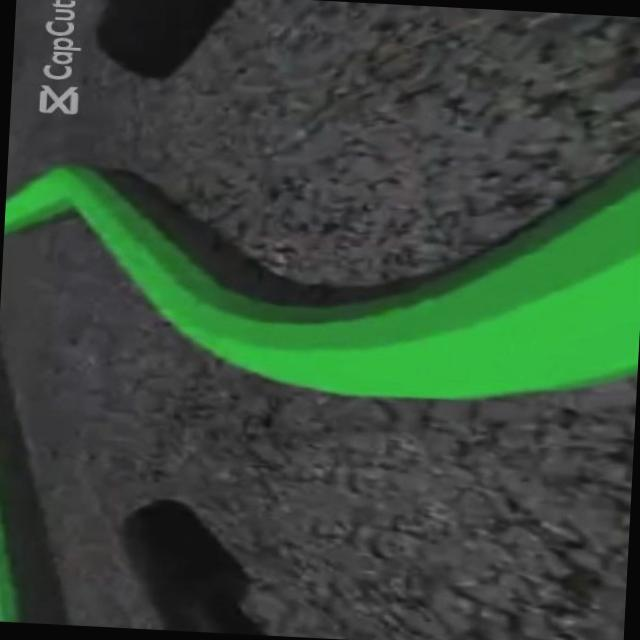gas: (59, 119, 640, 413)
